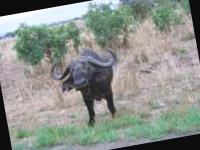Buffalo: (16, 7, 160, 143)
